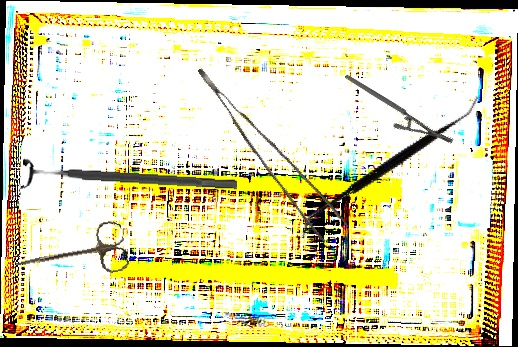Fixation Ring: (21, 156, 238, 202)
Iris Scissors: (10, 219, 131, 292)
Needle Holder: (344, 48, 455, 169)
Spatula Surgical: (299, 53, 481, 281)
Tissue Forceps: (197, 47, 349, 250)
